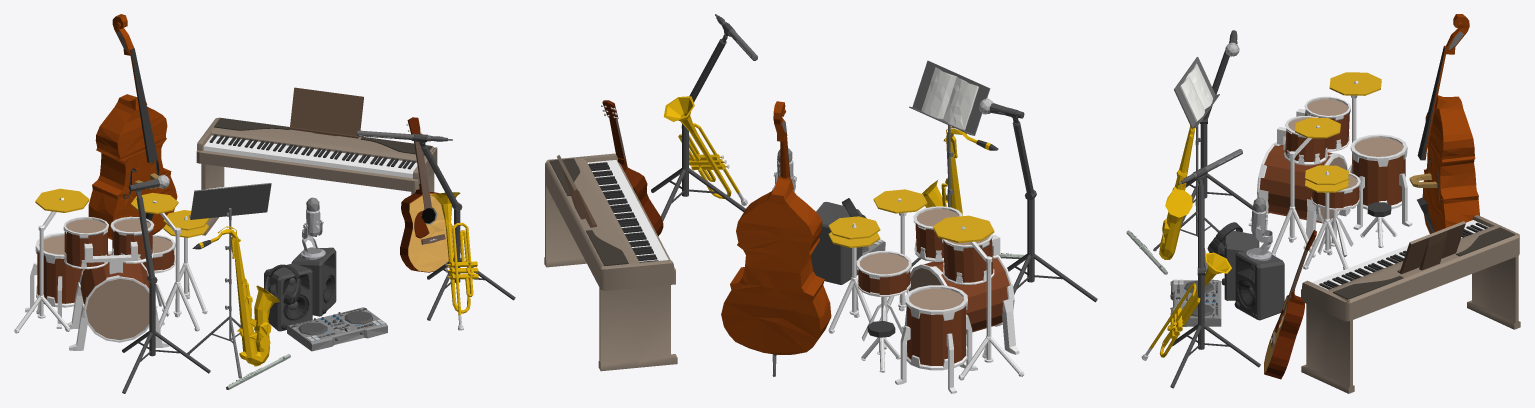
File: music-band-low-poly-907847.glb
3 views of the same model, side by side, from view 1: azimuth 30°, elevation 25°; view 2: azimuth 150°, elevation 25°; view 3: azimuth 270°, elevation 25° (orthographic). The views are drawn at different scales.
Parts seen in each view (by area): view 1: PropMesh; view 2: PropMesh; view 3: PropMesh.
Boxes of the visible parts, <box> form: PropMesh: <box>14,14,515,393</box>; PropMesh: <box>544,14,1097,393</box>; PropMesh: <box>1126,14,1520,393</box>.
Size of the model in its own units: 3.2 by 1.8 by 2.54.
